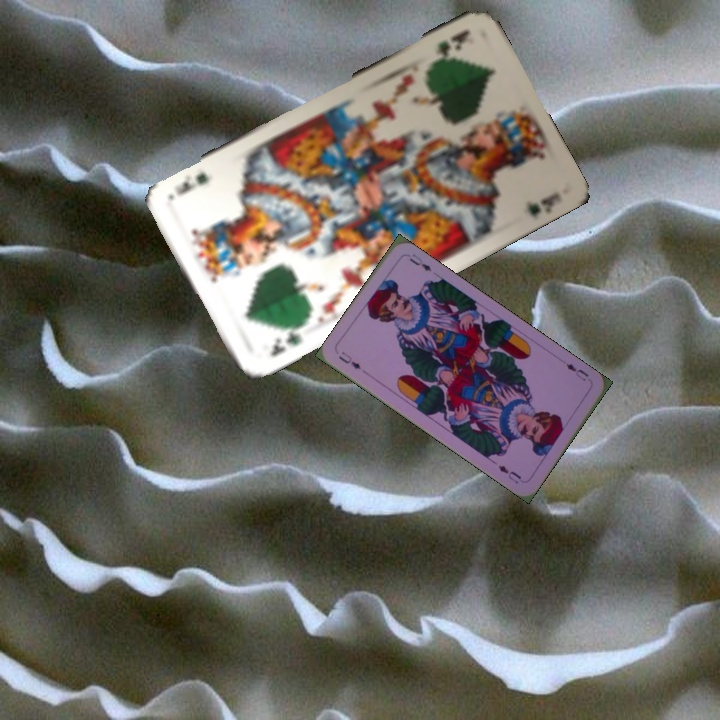EU: (334, 347, 364, 372), (562, 359, 591, 384)
GK: (424, 25, 472, 67), (266, 322, 305, 359)
